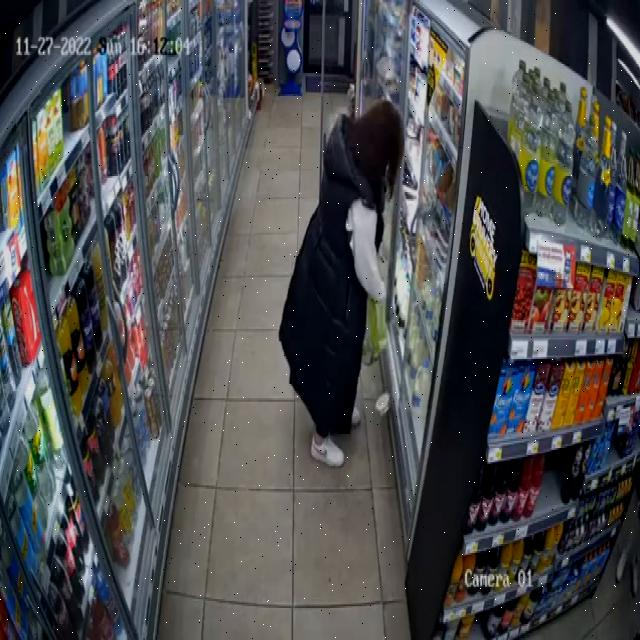article: (375, 393, 388, 412)
bags: (365, 299, 386, 357)
person: (279, 100, 403, 466)
